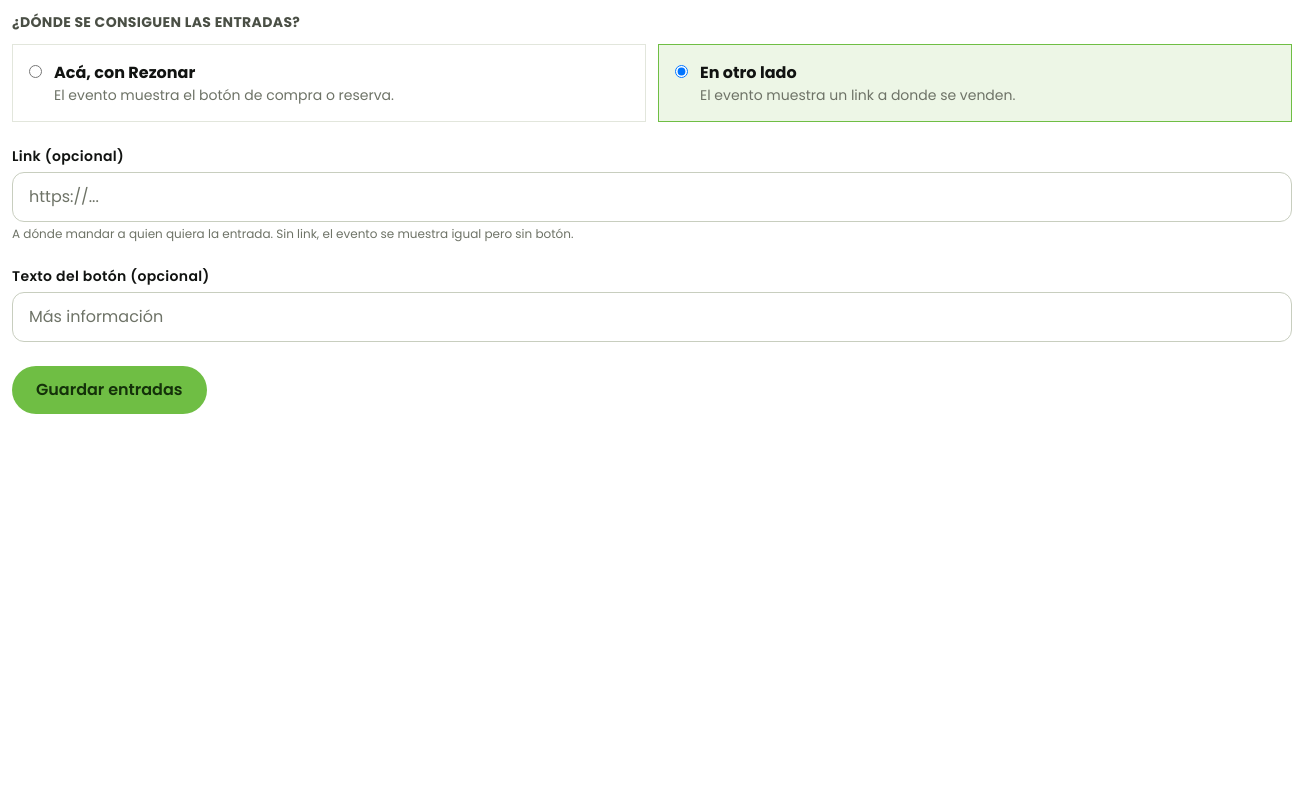
Test: PanelEntradas › dónde se consiguen las entradas › los campos de la venta interna aparecen recién al elegirla
Expected: the field labelled "Capacidad máxima" is not shown
Click the radio button labelled "Acá, con Rezonar": click(36, 72) x1=29 y1=65 x2=42 y2=78
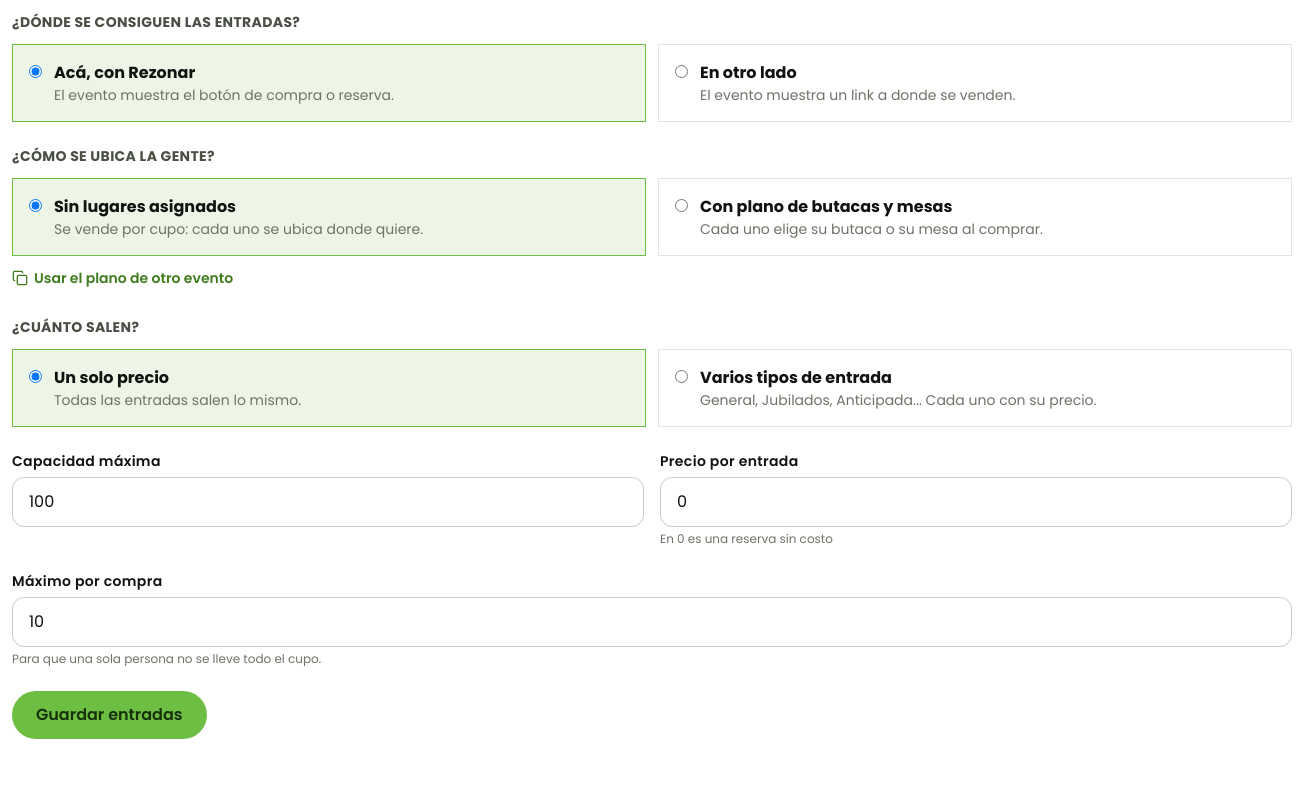
Expected: the number field labelled "Capacidad máxima" is shown, x1=12 y1=477 x2=644 y2=527
Expected: the label labelled "Link (opcional)" is gone
